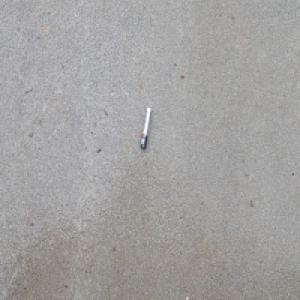Battery: (138, 105, 152, 150)
